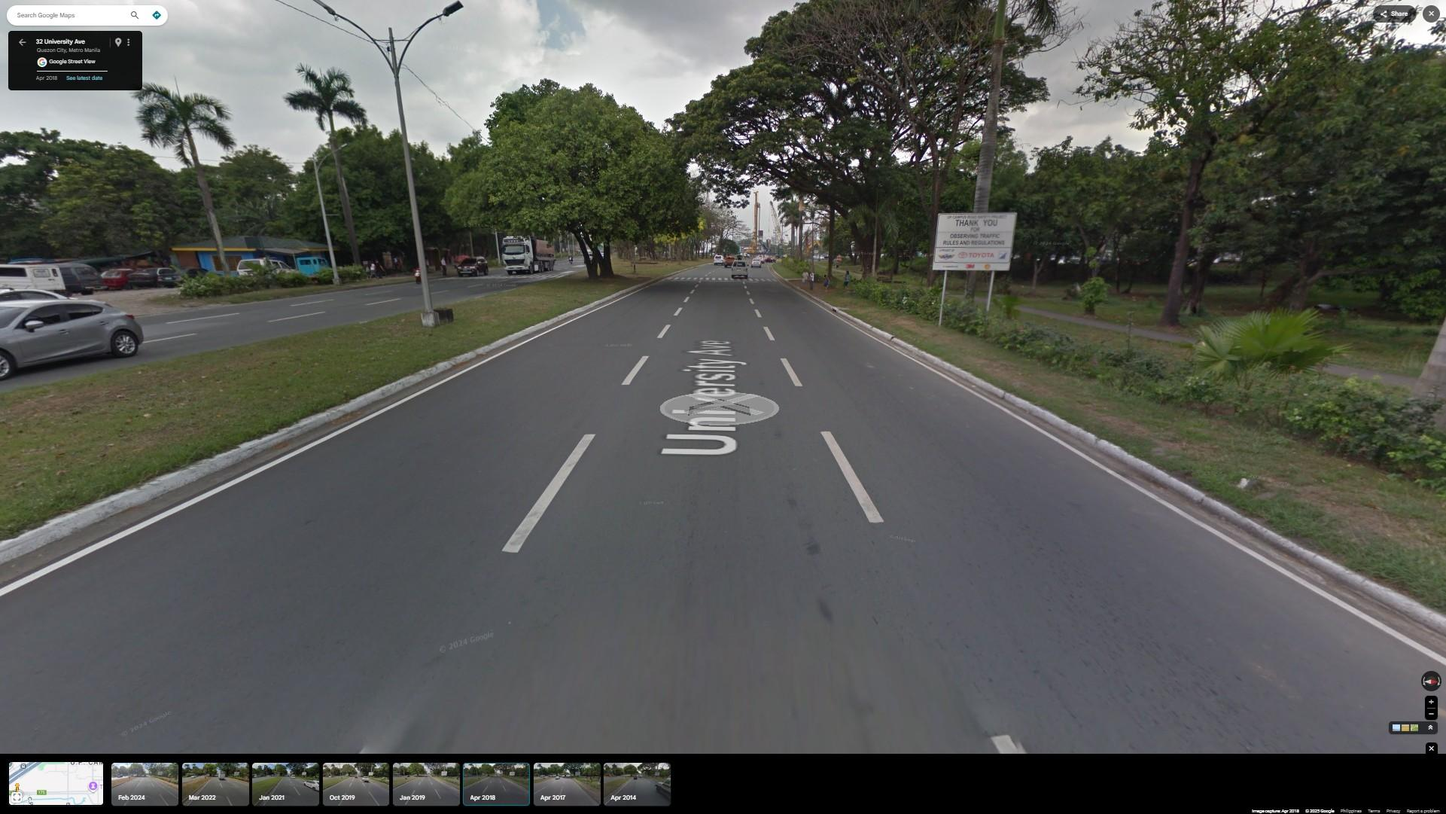pedestrian: (374, 259, 384, 279), (369, 260, 378, 279), (842, 269, 850, 290), (802, 267, 809, 289), (440, 255, 447, 277), (822, 274, 830, 292), (809, 270, 814, 291), (364, 264, 371, 278)
